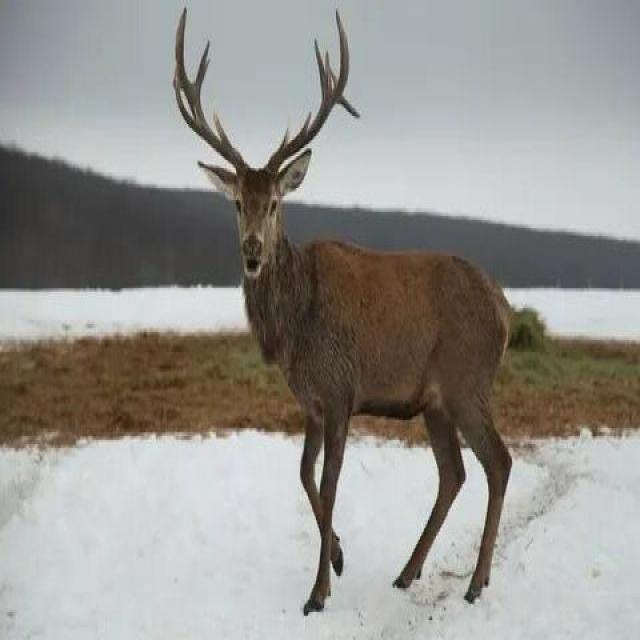deer: (165, 74, 580, 640)
